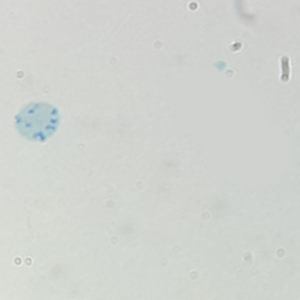aggregate reticulocyte: (13, 100, 62, 143)
